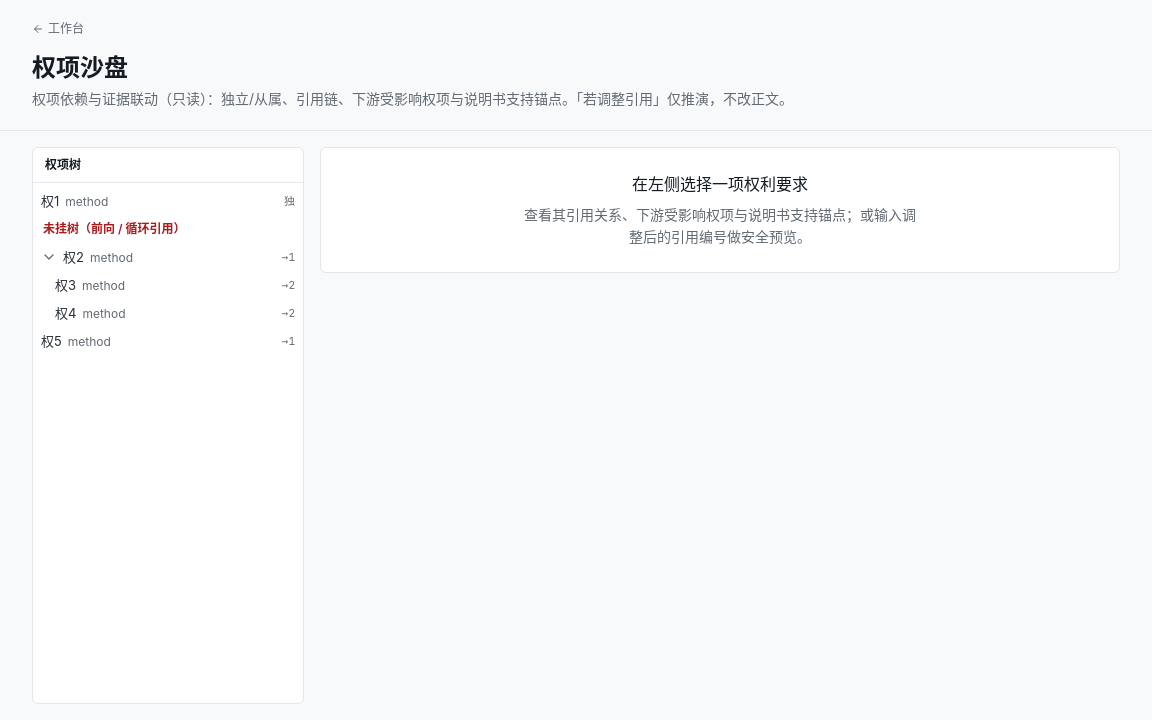
Scenario: ClaimsSandboxPage 复核项1/2 › detail 失败展示错误信息而非假通过
The width and height of the screenshot is (1152, 720).
Step 1. Click the list item "权3method →2" → (104, 286), box [55,277,295,293]
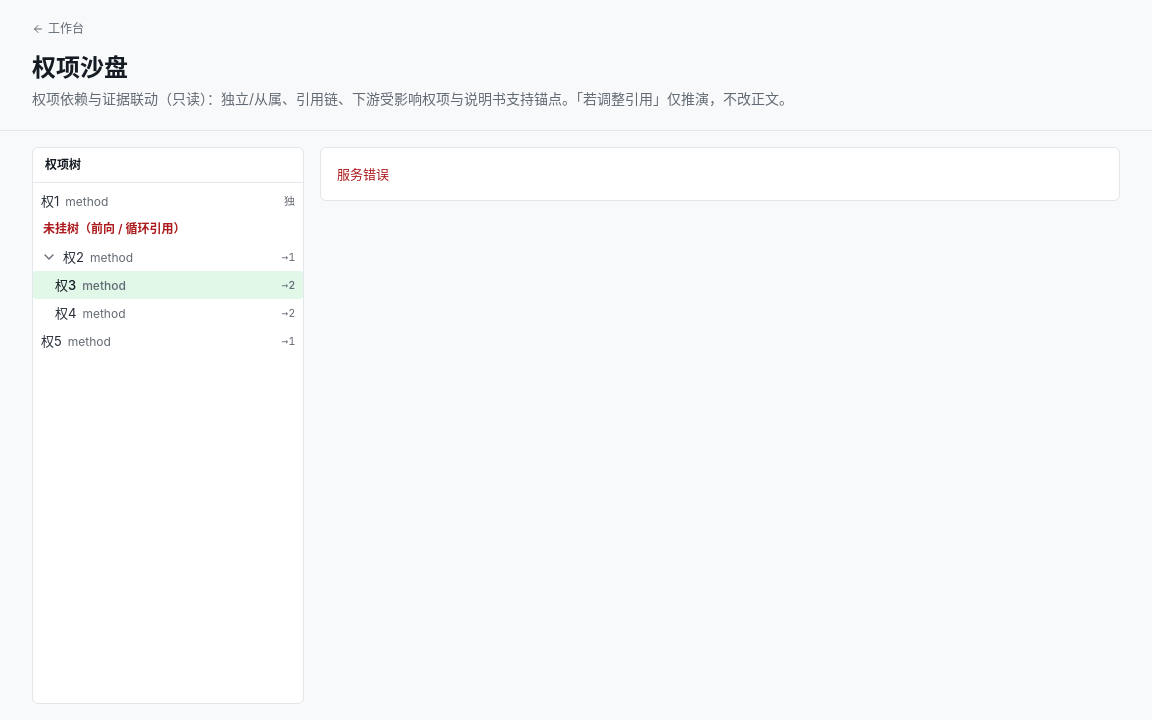
Expected: the message "服务错误" is shown, [320,147,1120,201]
